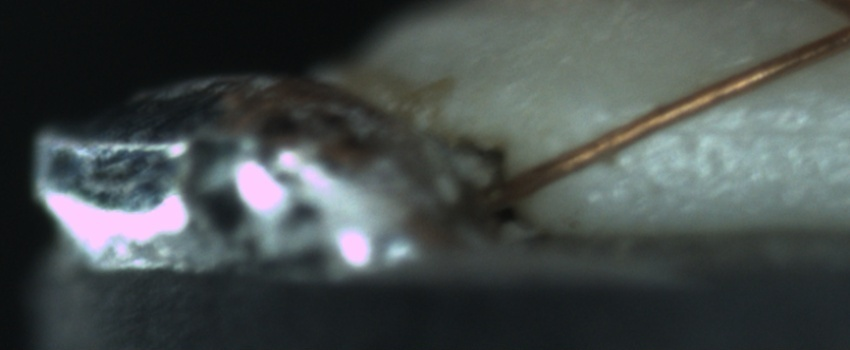DL: (669, 95, 849, 159)
